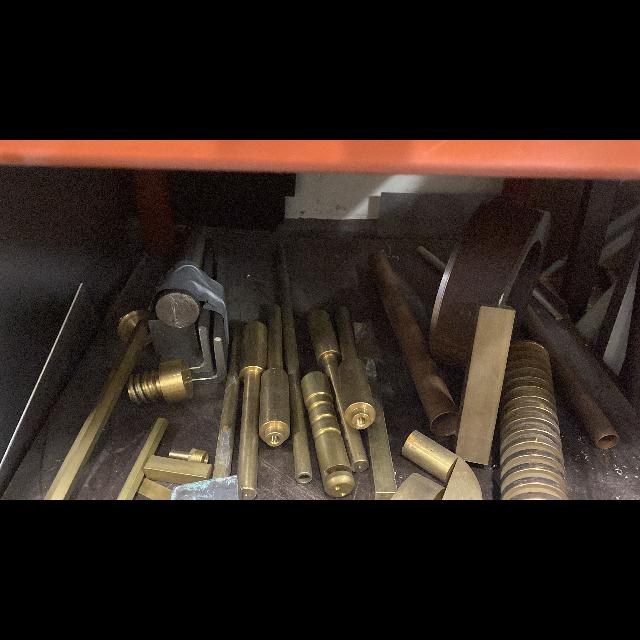Brass: (44, 327, 145, 500), (500, 341, 568, 500), (456, 306, 515, 464), (276, 263, 312, 483), (301, 371, 354, 497), (235, 320, 267, 500), (335, 305, 374, 430), (212, 326, 243, 478), (259, 305, 290, 447), (118, 418, 168, 500), (366, 393, 397, 500), (127, 359, 193, 404), (402, 430, 458, 483), (308, 309, 340, 387), (144, 455, 212, 484), (340, 412, 369, 473), (442, 458, 482, 500), (391, 473, 445, 500), (118, 310, 149, 341), (138, 477, 172, 500), (169, 448, 208, 464)
Copper: (368, 252, 460, 436), (552, 350, 619, 448)
